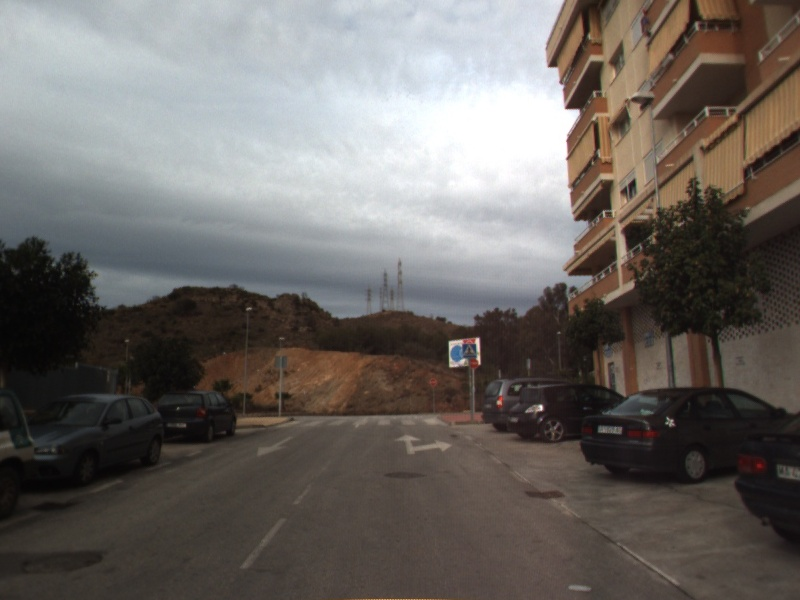STRAIGHT_RIGHT: (392, 432, 455, 456)
